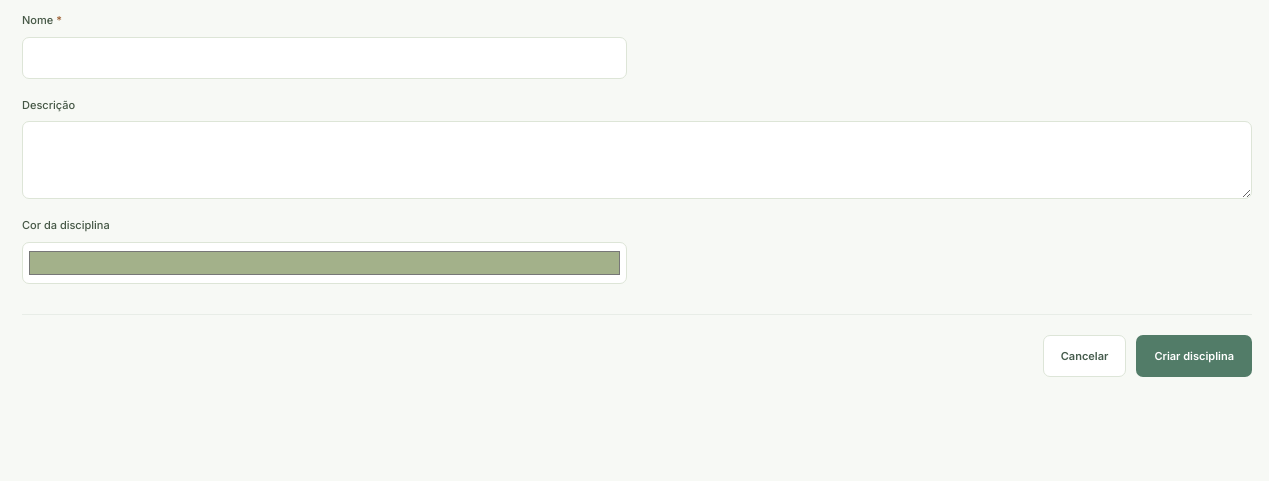
Test case: formulário mostra erro recebido por campo
The image size is (1269, 481).
In the field labelled "Nome *": (324, 58) x1=22 y1=36 x2=627 y2=78, type "Java"
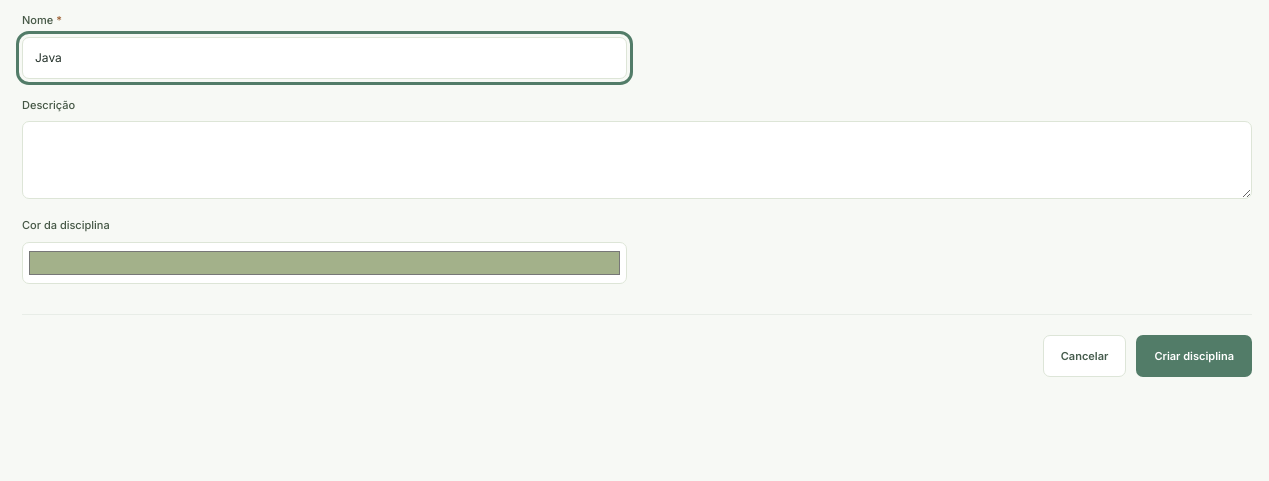
Click the button "Criar disciplina": (1194, 356) x1=1136 y1=334 x2=1252 y2=377
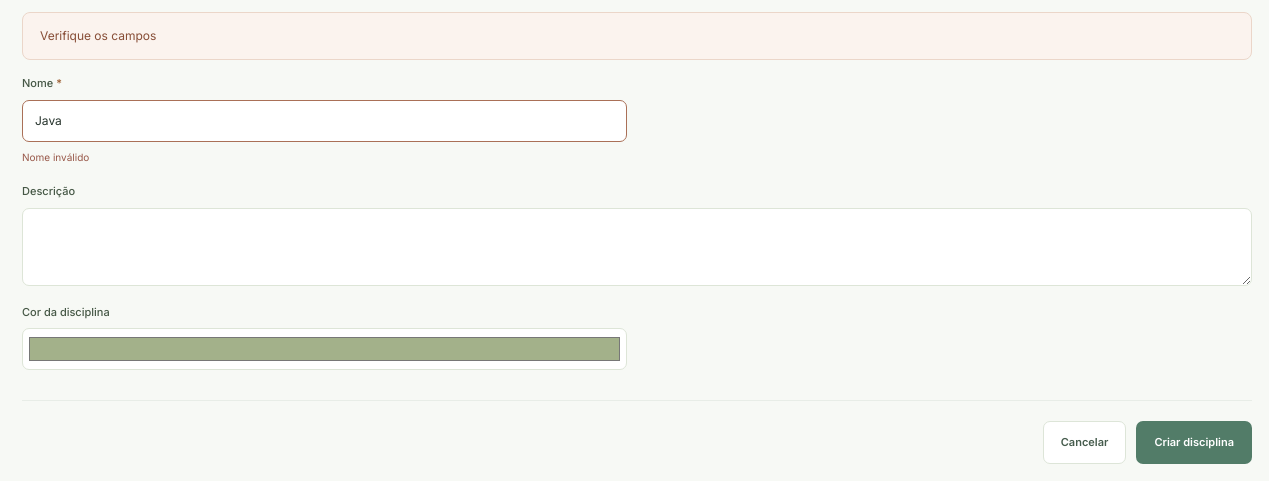
Expected: the text "Nome inválido" is shown, x1=22 y1=150 x2=89 y2=162
Expected: the message reads "Verifique os campos", x1=40 y1=28 x2=156 y2=43
